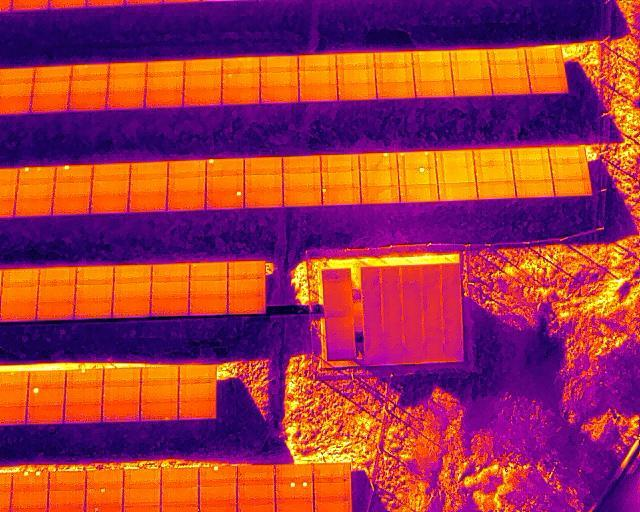Cell: (206, 189, 244, 210), (199, 467, 236, 487), (85, 488, 122, 507), (398, 167, 437, 185), (55, 165, 93, 183), (359, 152, 397, 170), (28, 387, 64, 405), (323, 187, 361, 204), (66, 370, 103, 387), (207, 158, 244, 175)
Cell-Multi: (275, 482, 312, 504), (12, 471, 49, 491), (17, 166, 55, 185), (397, 151, 436, 168)
No-Anomaly: (168, 189, 205, 212), (129, 192, 167, 213), (244, 187, 283, 207), (91, 194, 128, 215), (52, 194, 90, 214), (283, 186, 321, 206), (515, 179, 555, 198), (161, 468, 199, 488), (321, 154, 360, 173), (237, 484, 274, 504), (314, 483, 351, 503), (140, 402, 178, 421), (10, 490, 48, 509), (228, 295, 266, 314), (76, 266, 114, 285), (227, 261, 265, 280), (400, 184, 438, 203), (69, 93, 107, 112), (200, 486, 236, 506), (179, 365, 216, 384), (161, 487, 198, 506), (123, 487, 160, 506), (152, 263, 189, 282), (190, 262, 227, 281), (48, 471, 85, 490), (313, 463, 350, 482), (222, 86, 259, 105), (189, 280, 228, 298), (438, 183, 477, 201), (553, 179, 592, 197), (282, 155, 321, 173), (178, 401, 216, 419), (48, 490, 86, 508), (103, 368, 141, 386), (141, 367, 179, 385), (0, 302, 36, 321), (37, 302, 75, 320), (3, 268, 39, 287), (64, 405, 102, 423), (477, 180, 515, 198), (54, 180, 92, 198), (92, 163, 130, 181), (237, 465, 273, 484), (106, 92, 144, 110), (260, 85, 298, 103), (338, 83, 376, 101), (376, 81, 414, 99), (512, 164, 552, 181), (75, 301, 112, 319), (39, 267, 76, 285), (114, 265, 151, 283), (102, 404, 139, 422), (362, 185, 399, 203), (123, 470, 160, 488), (130, 161, 167, 179), (275, 464, 312, 482), (31, 94, 68, 112), (145, 90, 182, 108), (487, 48, 526, 65), (321, 171, 360, 188), (475, 164, 514, 181), (435, 151, 474, 168), (492, 78, 531, 95), (529, 77, 568, 94), (103, 385, 139, 403), (27, 406, 63, 424), (549, 146, 585, 164), (65, 388, 103, 405), (140, 385, 178, 402), (112, 300, 150, 317), (151, 299, 189, 316), (189, 298, 227, 315), (299, 69, 337, 86), (71, 64, 109, 81), (336, 52, 374, 69), (375, 51, 413, 68), (283, 171, 321, 188), (299, 85, 337, 102), (413, 66, 453, 82), (179, 384, 216, 401), (38, 285, 75, 302), (76, 284, 113, 301), (113, 283, 150, 300), (151, 282, 188, 299), (15, 198, 52, 215), (222, 56, 259, 73), (413, 50, 450, 67), (451, 49, 488, 66), (245, 157, 282, 174), (183, 89, 220, 106), (260, 71, 299, 87), (551, 164, 590, 180), (415, 81, 454, 97), (453, 79, 492, 95), (29, 371, 65, 388), (1, 286, 37, 303), (86, 471, 122, 488), (222, 72, 260, 88), (260, 55, 298, 71), (299, 54, 337, 70), (360, 170, 398, 186), (511, 148, 549, 164), (69, 79, 107, 95), (436, 167, 476, 182), (109, 62, 146, 78), (147, 61, 184, 77), (184, 59, 221, 75), (92, 179, 129, 195), (168, 160, 205, 176), (146, 75, 183, 91), (228, 279, 267, 294), (337, 69, 376, 84), (490, 63, 529, 78), (130, 176, 166, 192), (184, 75, 222, 90), (452, 65, 490, 80), (527, 63, 565, 78), (168, 175, 206, 190), (474, 149, 512, 164), (17, 183, 54, 198), (245, 174, 282, 189), (206, 174, 243, 189), (376, 67, 415, 81), (526, 48, 562, 63), (33, 81, 69, 96), (107, 78, 145, 92), (34, 67, 69, 82), (272, 332, 273, 337)
